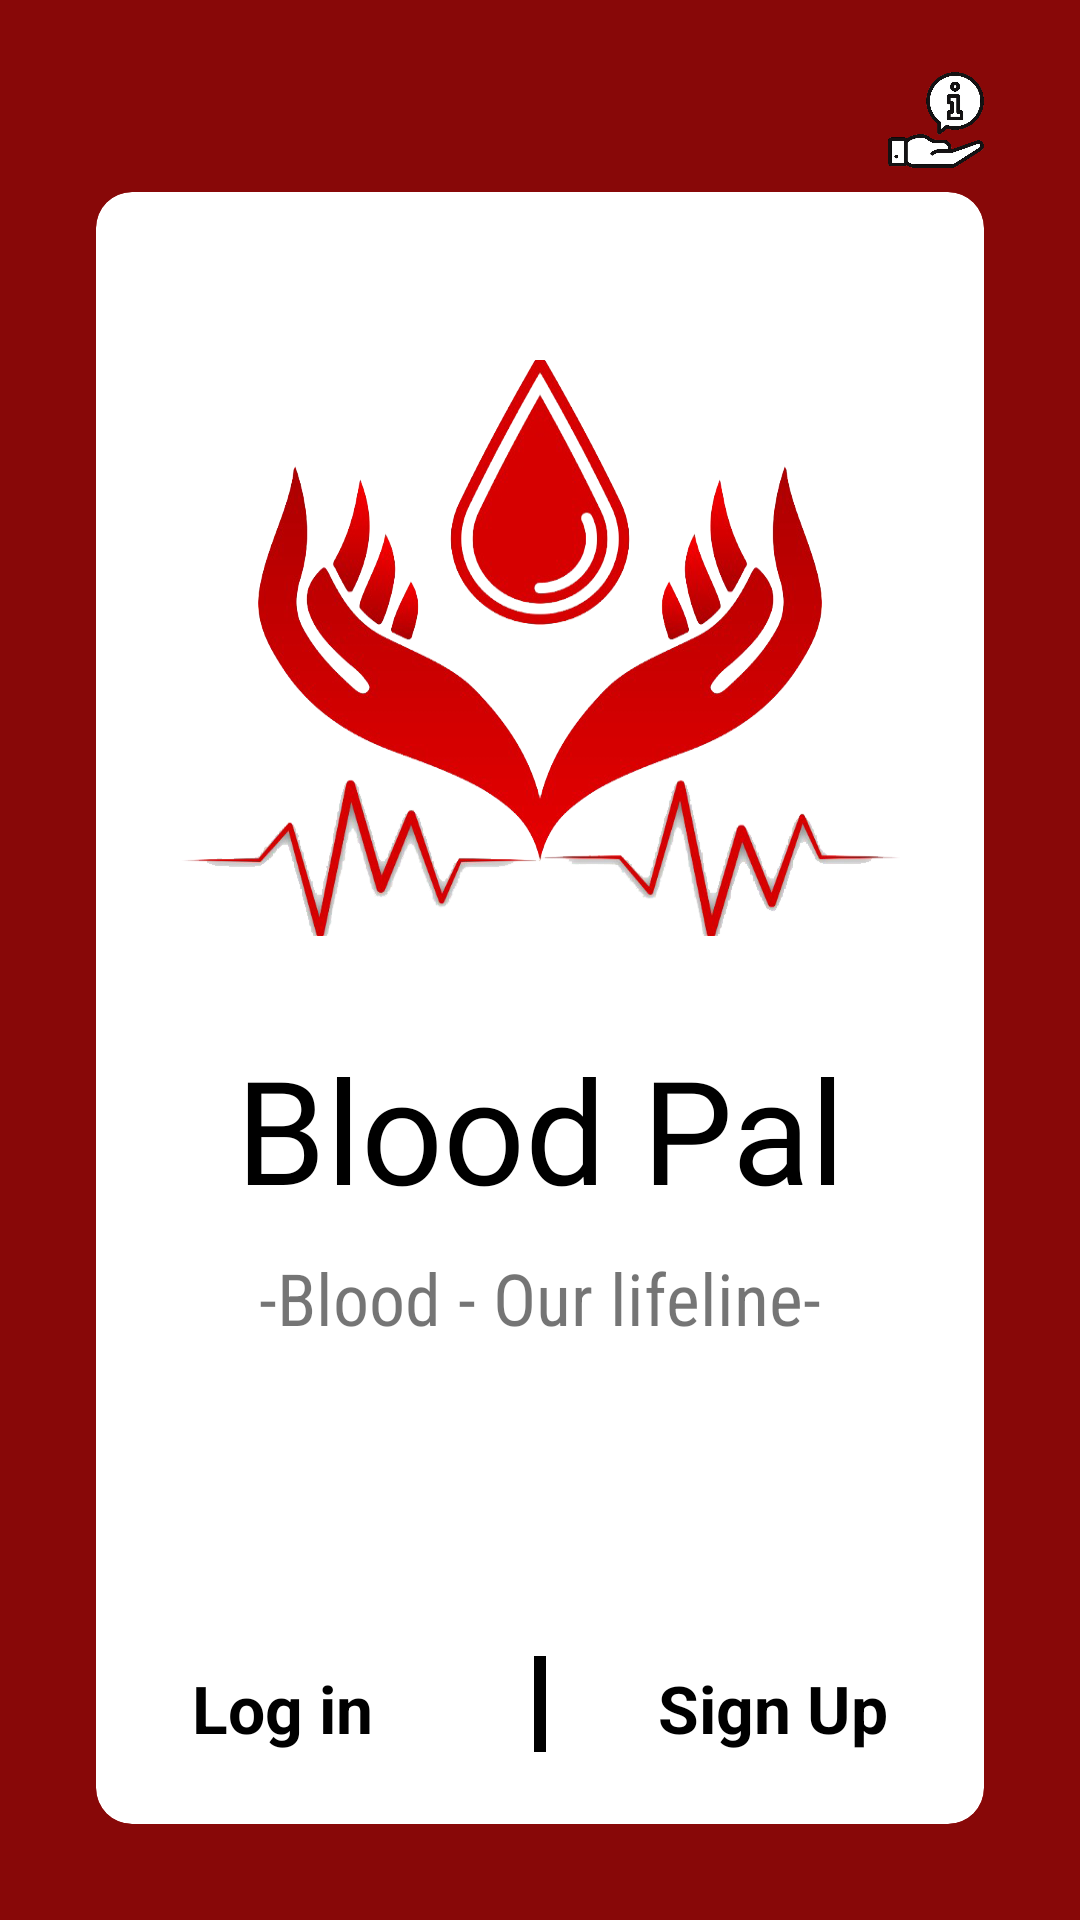

Screen size 1080 × 1920. Icon name, then its center in pixels as point (x, y):
info: point (936, 120)
